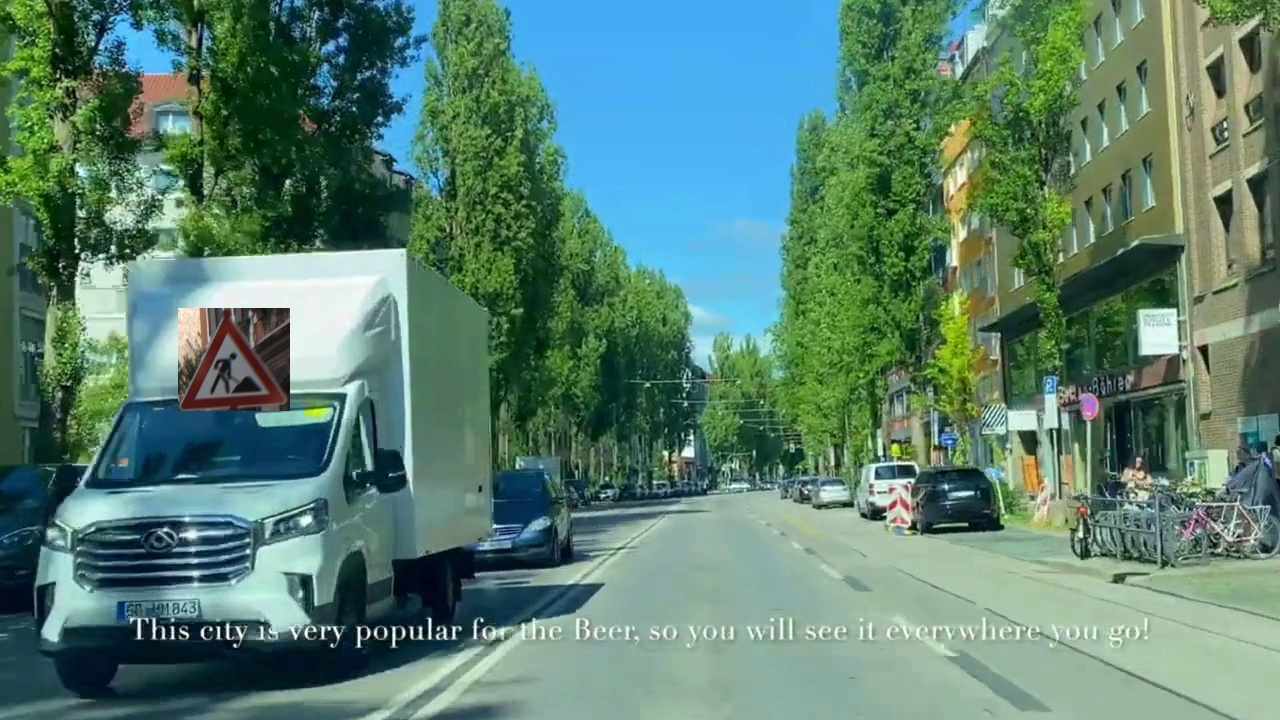Road work: (178, 308, 290, 411)
